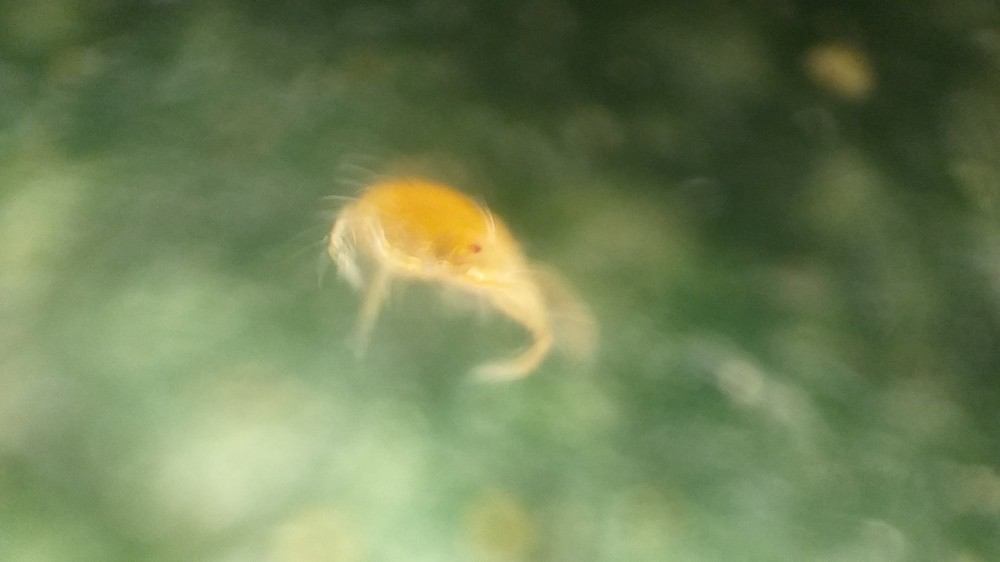Aracnido Rojo: (277, 139, 614, 404)
